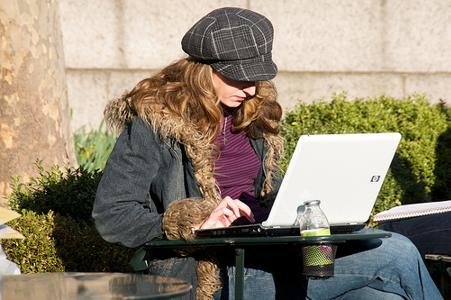person: (95, 8, 443, 300)
